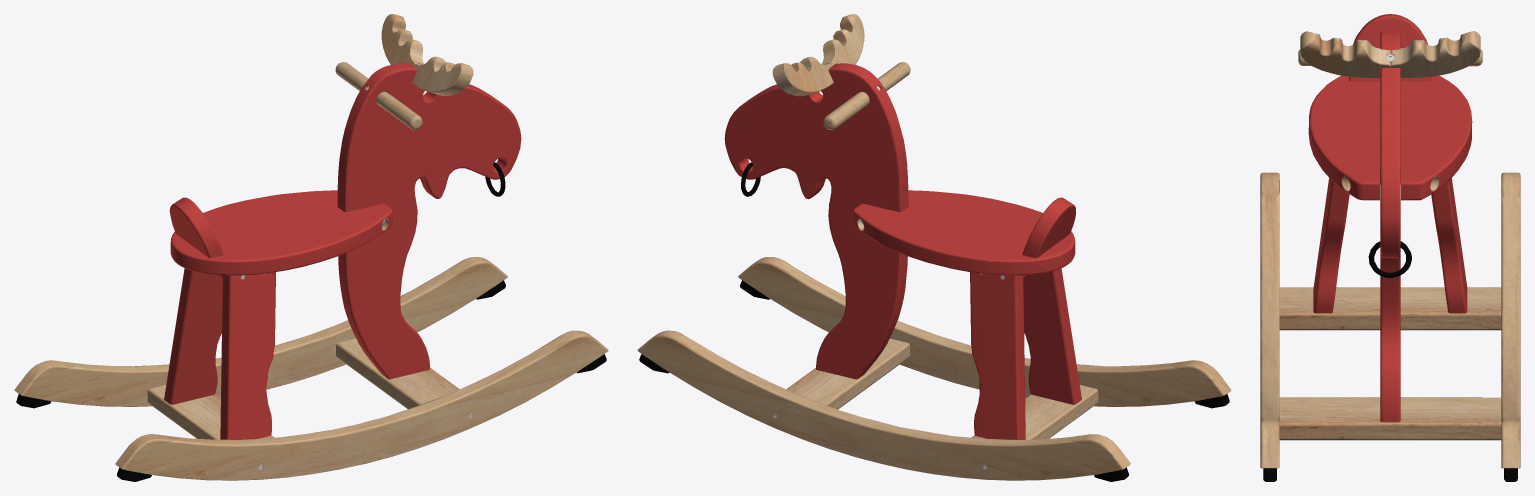
Rendered from ikea_rocking_moose_redrubberwood_pbr.glb.
3 views of the same model, side by side, from view 1: azimuth 30°, elevation 25°; view 2: azimuth 150°, elevation 25°; view 3: azimuth 270°, elevation 25° (orthographic). The views are drawn at different scales.
Visible parts, largest first — view 1: EKORRE; view 2: EKORRE; view 3: EKORRE.
Boxes of the visible parts, x1=… form: EKORRE: x1=14, y1=14, x2=608, y2=481; EKORRE: x1=637, y1=14, x2=1231, y2=481; EKORRE: x1=1260, y1=14, x2=1520, y2=481.
Size of the model in its own units: 0.7291 by 0.5104 by 0.2821.
1 material, 1 textured.
